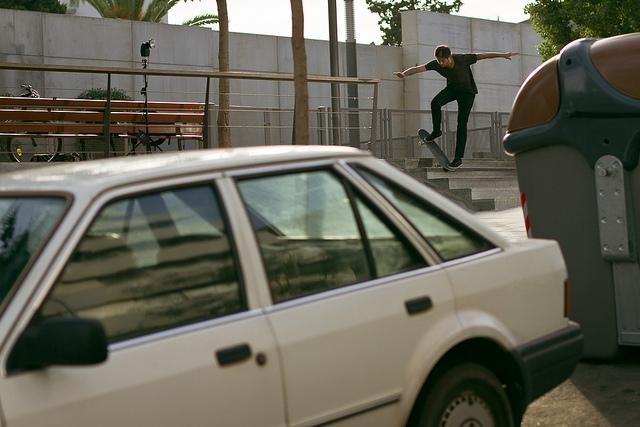bicycle: (0, 83, 62, 168)
car: (1, 143, 585, 422)
